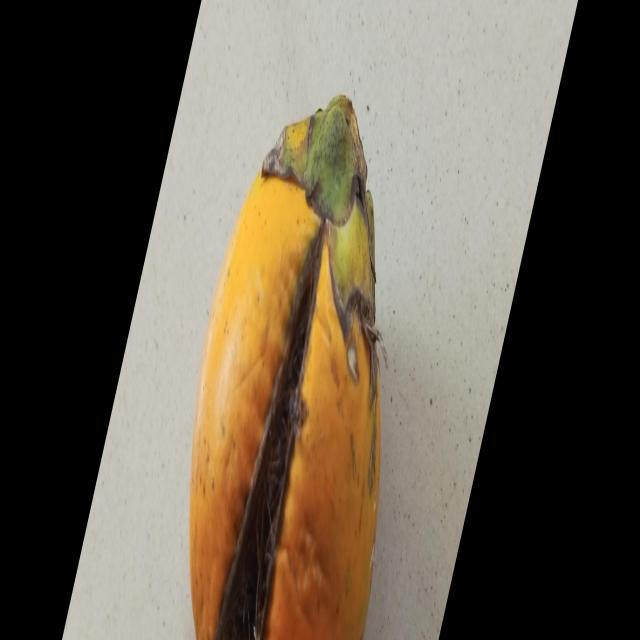damaged: (188, 96, 381, 640)
